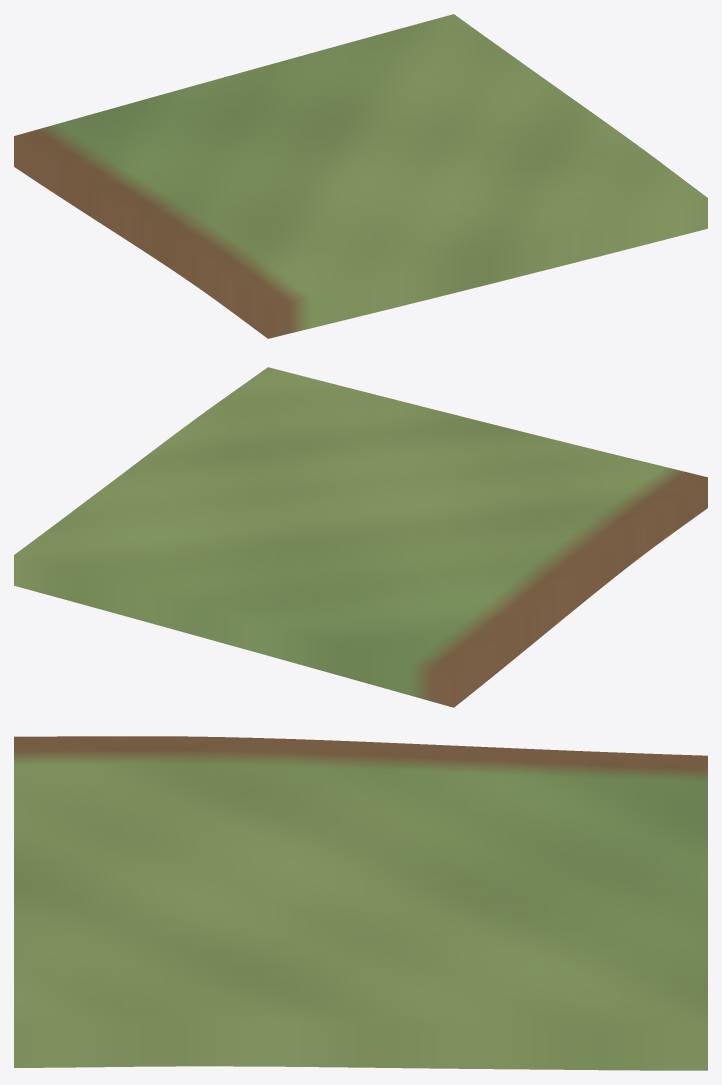
3 renders of one model, top to bottom at view 1: azimuth 30°, elevation 25°; view 2: azimuth 150°, elevation 25°; view 3: azimuth 270°, elevation 25°, orthographic. The views are drawn at different scales.
Visible parts, largest first — view 1: terrain; view 2: terrain; view 3: terrain.
Part boxes in pixels (x1,y1,x2,y2): terrain: (14, 14, 707, 338); terrain: (14, 367, 707, 707); terrain: (14, 736, 707, 1070).
Bounding box in the file's own units: 30 × 3.17 × 30.
